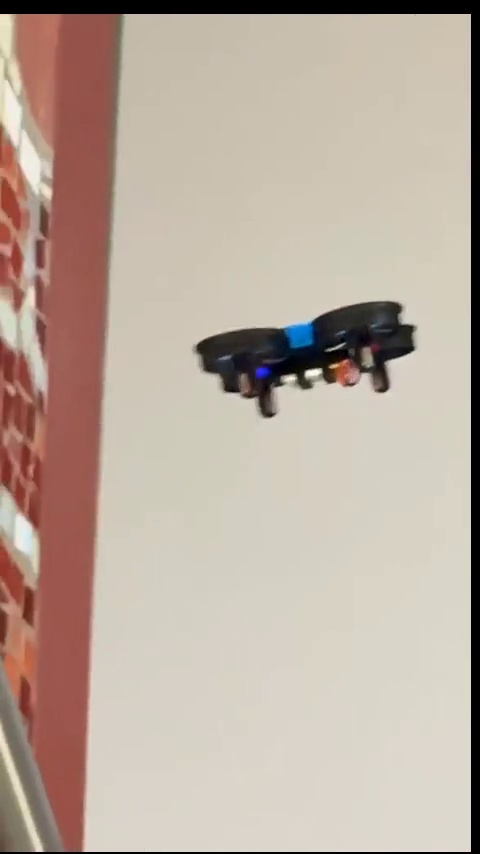drone: (195, 300, 418, 408)
